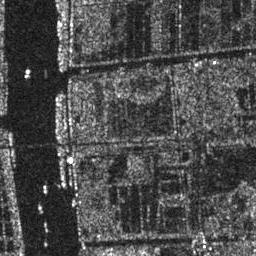ship: (56, 51, 65, 73), (56, 19, 64, 39), (6, 132, 14, 146), (37, 205, 46, 214), (41, 185, 49, 195), (24, 68, 30, 79), (43, 222, 48, 233)
